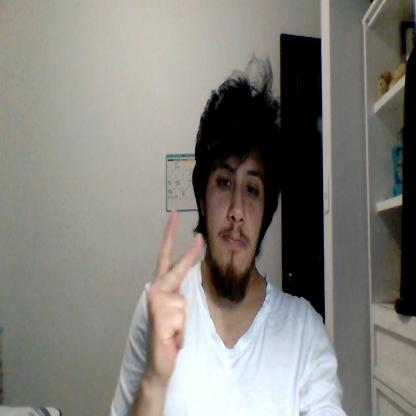P: (146, 211, 202, 386)
